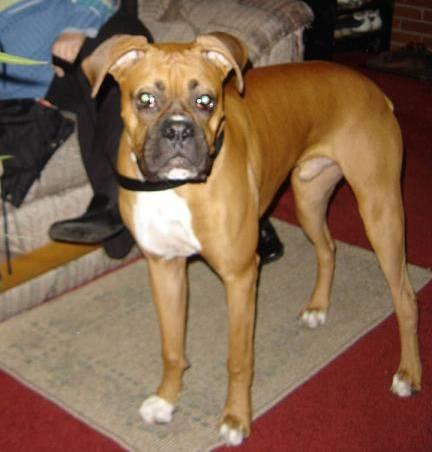dog: (81, 32, 420, 445)
